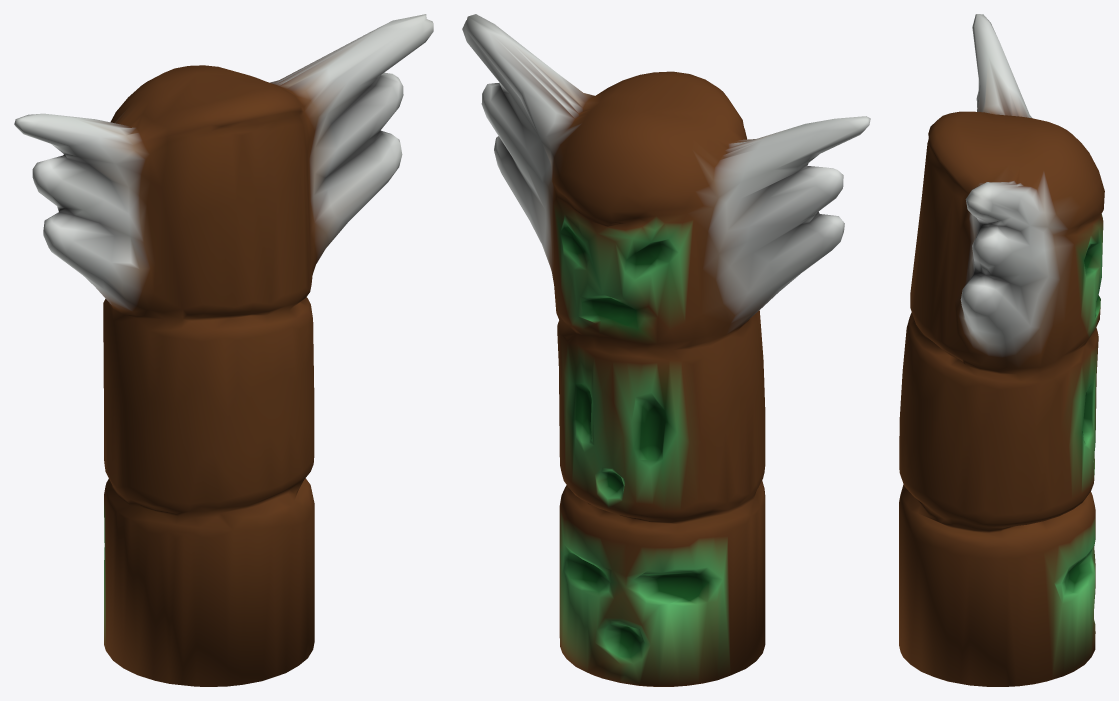
File: Totem.fbx
3 views of the same model, side by side, from view 1: azimuth 30°, elevation 25°; view 2: azimuth 150°, elevation 25°; view 3: azimuth 270°, elevation 25° (orthographic). The views are drawn at different scales.
Parts seen in each view (by area): view 1: TotemLow; view 2: TotemLow; view 3: TotemLow.
Boxes of the visible parts, box(x1,y1,x2,y2) form: TotemLow: box(14, 14, 433, 686); TotemLow: box(462, 14, 870, 686); TotemLow: box(899, 14, 1104, 686).
Size of the model in its own units: 65.18 by 88.17 by 29.88.
